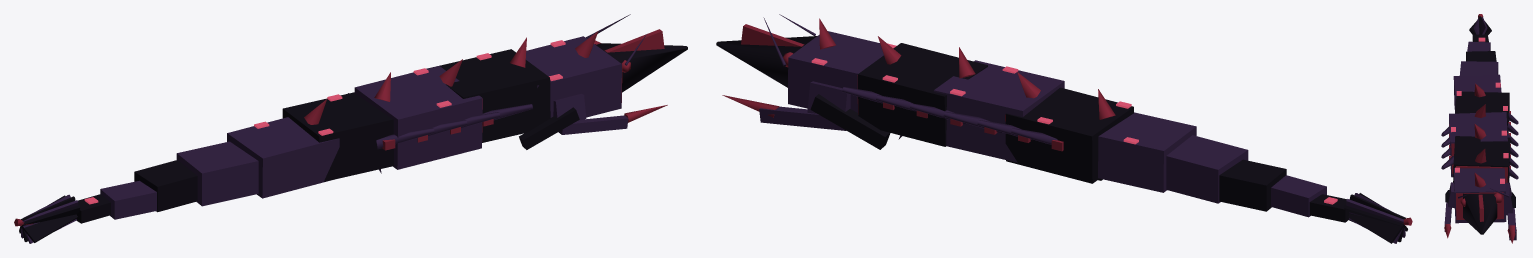
File: corvette-directorate.glb
3 renders of one model, left to right at view 1: azimuth 30°, elevation 25°; view 2: azimuth 150°, elevation 25°; view 3: azimuth 270°, elevation 25°, orthographic. The views are drawn at different scales.
Parts seen in each view (by area): view 1: carapace_3, carapace_2, carapace_5, carapace_4, carapace_1, tail_1, tail_2, rostrum, tail_3, limb_s_upper, limb_s_forearm, rostrum_blade (+5 smaller); view 2: carapace_2, carapace_4, carapace_3, carapace_5, carapace_1, tail_1, tail_2, rostrum, limb_p_upper, tail_3, limb_p_forearm, tail_4 (+4 smaller); view 3: carapace_2, carapace_3, carapace_1, carapace_4, rostrum, carapace_5, tail_1, carapace_1_edge, tail_2, tail_3, limb_p_shoulder, carapace_2_edge (+27 smaller).
Boxes of the visible parts, box(x1,y1,x2,y2) form: carapace_3: box(354, 66, 482, 169); carapace_2: box(426, 49, 550, 142); carapace_5: box(227, 117, 339, 198); carapace_4: box(282, 92, 393, 181); carapace_1: box(525, 36, 621, 117); tail_1: box(176, 141, 258, 206); tail_2: box(134, 160, 197, 212); rostrum: box(595, 43, 687, 92); tail_3: box(100, 180, 156, 219); limb_s_upper: box(519, 107, 579, 149); limb_s_forearm: box(558, 115, 628, 134); rostrum_blade: box(604, 29, 664, 52); carapace_2: box(858, 43, 987, 146); carapace_4: box(1005, 87, 1133, 183); carapace_3: box(933, 60, 1064, 162); carapace_5: box(1098, 112, 1196, 192); carapace_1: box(788, 31, 883, 112); tail_1: box(1166, 135, 1248, 203); tail_2: box(1219, 159, 1286, 211); rostrum: box(716, 36, 816, 87); limb_p_upper: box(810, 94, 890, 149); tail_3: box(1271, 175, 1326, 217); limb_p_forearm: box(759, 106, 846, 130); tail_4: box(1309, 194, 1349, 222); carapace_2: box(1453, 136, 1510, 182); carapace_3: box(1449, 112, 1507, 177); carapace_1: box(1454, 168, 1506, 223); carapace_4: box(1455, 91, 1509, 132); rostrum: box(1463, 193, 1497, 234); carapace_5: box(1453, 74, 1501, 112); tail_1: box(1459, 61, 1498, 75); carapace_1_edge: box(1456, 192, 1503, 219); tail_2: box(1466, 51, 1496, 61); tail_3: box(1467, 41, 1490, 51); limb_p_shoulder: box(1505, 182, 1513, 215); carapace_2_edge: box(1456, 166, 1507, 182).
Size of the model in its own units: 79.92 by 10.92 by 11.62.
